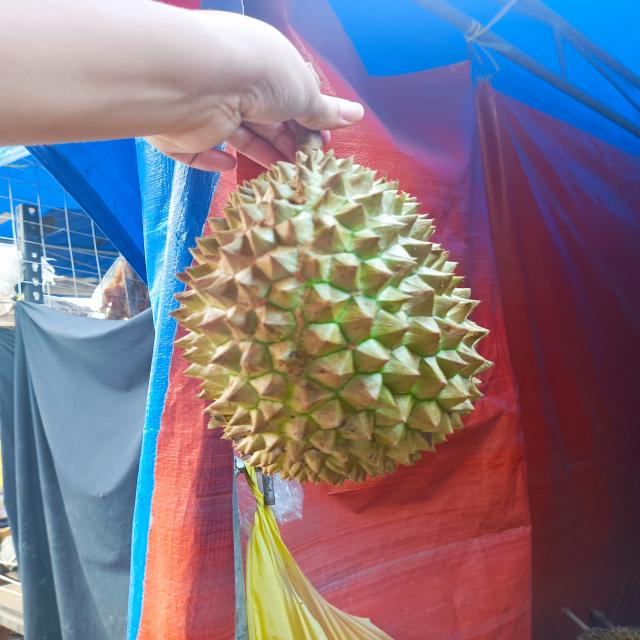mature: (168, 141, 491, 487)
